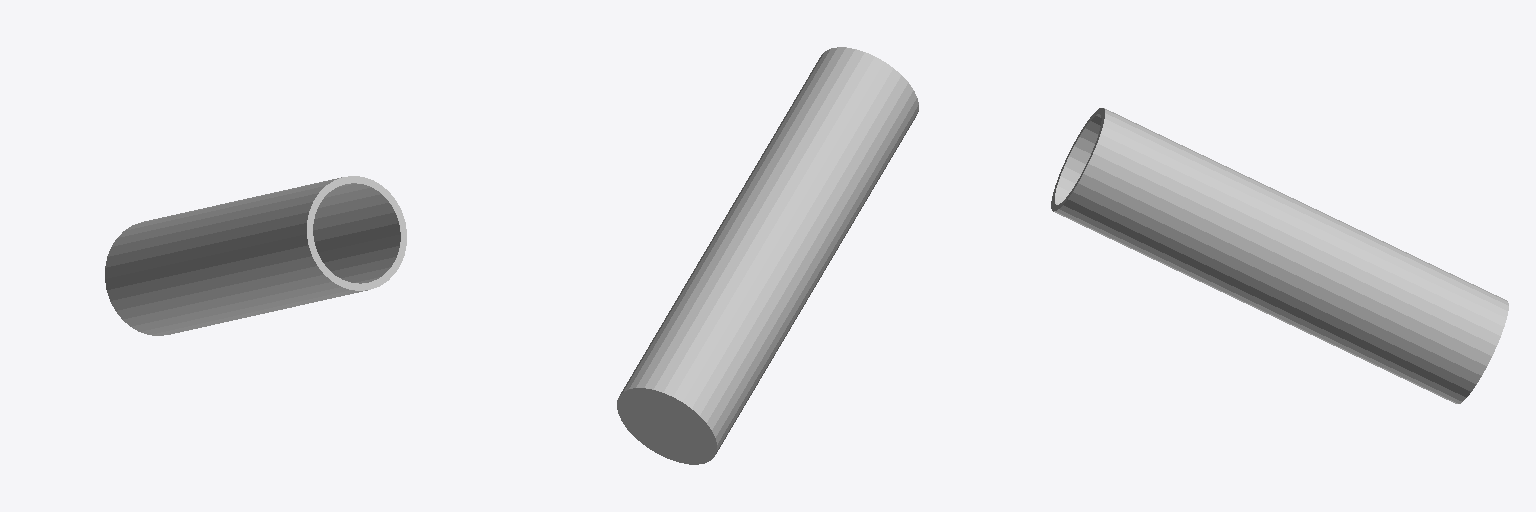
File: cannon-barrel.obj
The picture shows the model from 3 angles: view 1: azimuth 30°, elevation 25°; view 2: azimuth 150°, elevation 25°; view 3: azimuth 270°, elevation 25°; orthographic projection.
Bounding box in the file's own units: 0.4505 × 1.27 × 1.84.